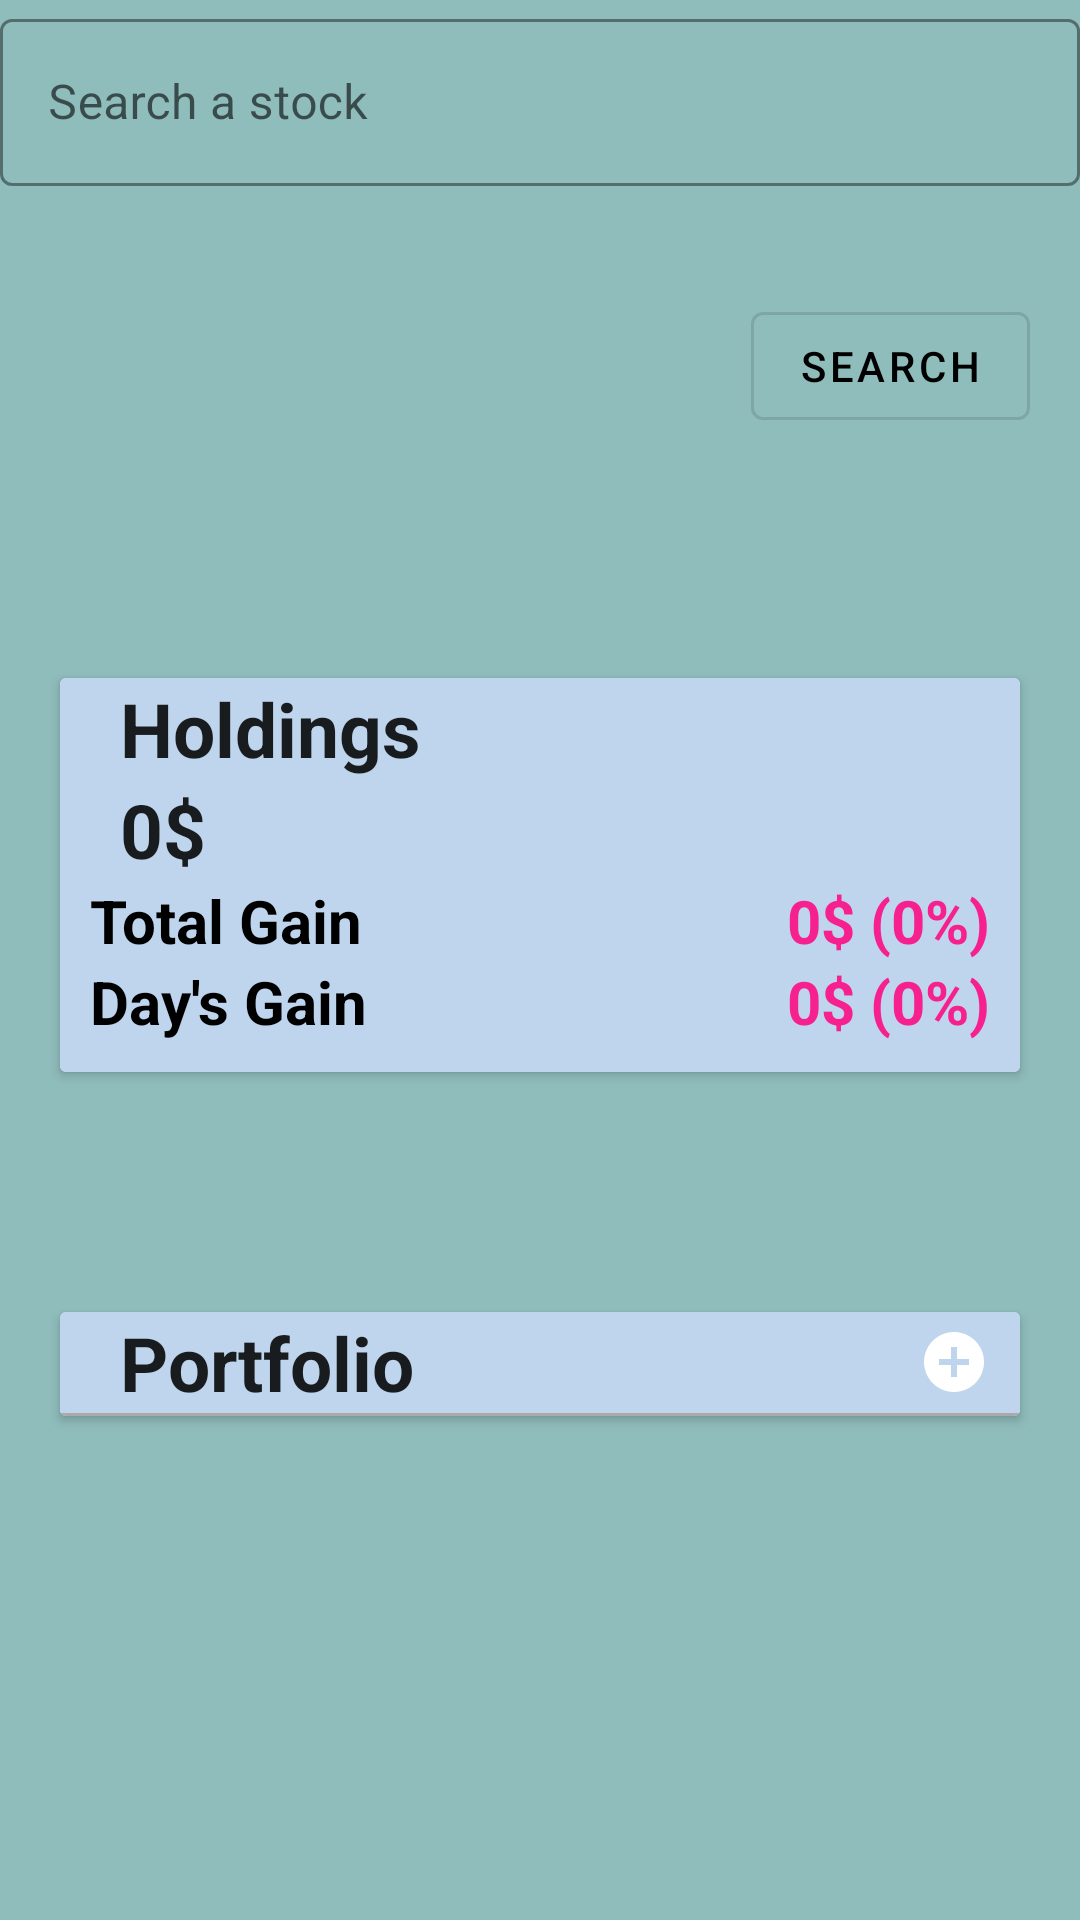

Locate icon controls on the screen. Image size 1080×1920, boxes as (left=x1, top=y1, right=x2, bottom=y2).
add circle: (left=924, top=1332, right=984, bottom=1392)
